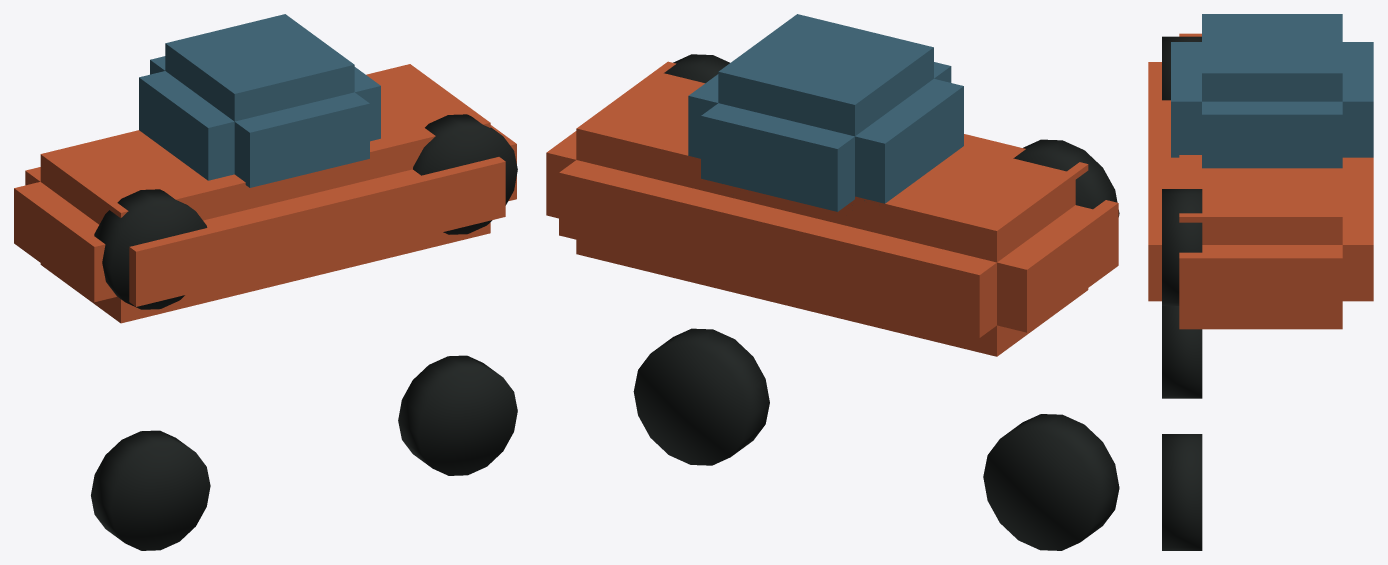
File: sku_toy.glb
The picture shows the model from 3 angles, left to right: view 1: azimuth 30°, elevation 25°; view 2: azimuth 150°, elevation 25°; view 3: azimuth 270°, elevation 25°; orthographic projection. The views are drawn at different scales.
Parts seen in each view (by area): view 1: sku_toy_Toy_red, sku_toy_Grip_rubber, sku_toy_Technical_blue; view 2: sku_toy_Toy_red, sku_toy_Technical_blue, sku_toy_Grip_rubber; view 3: sku_toy_Toy_red, sku_toy_Technical_blue, sku_toy_Grip_rubber.
Boxes of the visible parts, bbox=[...] form: sku_toy_Toy_red: bbox=[14, 64, 516, 323]; sku_toy_Grip_rubber: bbox=[91, 114, 517, 550]; sku_toy_Technical_blue: bbox=[139, 14, 380, 187]; sku_toy_Toy_red: bbox=[546, 61, 1118, 356]; sku_toy_Technical_blue: bbox=[688, 14, 963, 211]; sku_toy_Grip_rubber: bbox=[633, 54, 1119, 550]; sku_toy_Toy_red: bbox=[1148, 33, 1373, 329]; sku_toy_Technical_blue: bbox=[1171, 14, 1373, 168]; sku_toy_Grip_rubber: bbox=[1162, 36, 1202, 550].
Bounding box in the file's own units: 0.22 × 0.2085 × 0.1.
